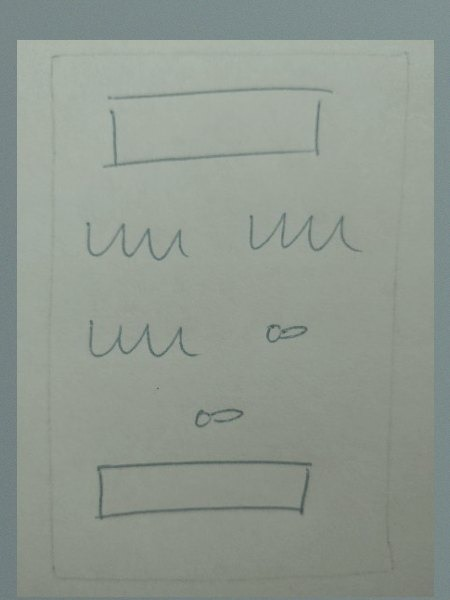switch: (252, 309, 324, 353), (187, 393, 249, 435)
text: (239, 199, 373, 258), (76, 308, 205, 367), (76, 207, 198, 268)
text_input: (88, 78, 343, 176), (88, 452, 322, 525)
